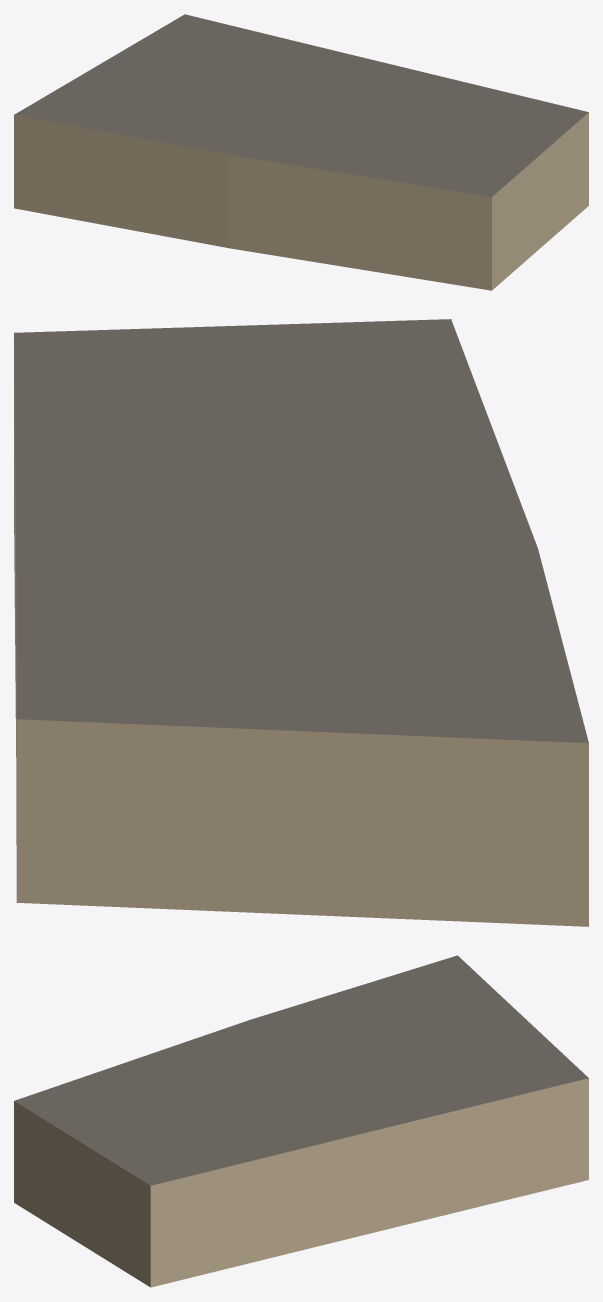
3 renders of one model, top to bottom at view 1: azimuth 30°, elevation 25°; view 2: azimuth 150°, elevation 25°; view 3: azimuth 270°, elevation 25°, orthographic. The views are drawn at different scales.
Visible parts, largest first — view 1: HP-w505661375; view 2: HP-w505661375; view 3: HP-w505661375.
Boxes of the visible parts, x1,y1,x2,y2 form: HP-w505661375: (14,14,588,290); HP-w505661375: (14,319,588,926); HP-w505661375: (14,955,588,1287).
Size of the model in its own units: 64.08 by 13.2 by 67.57.
